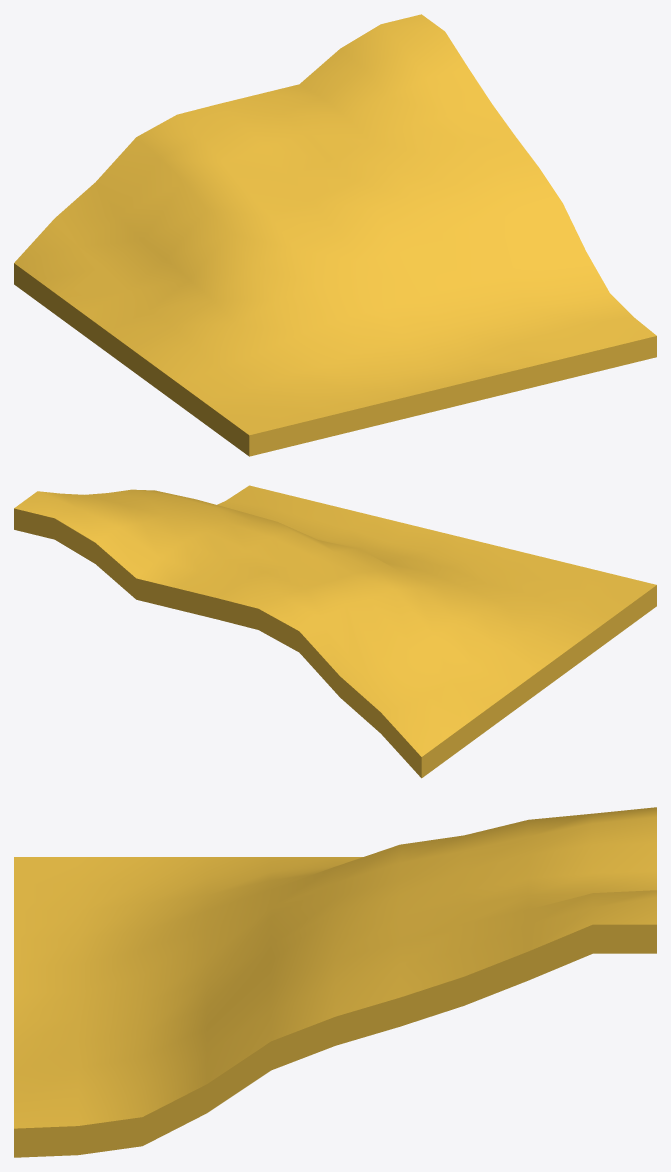
File: Flach - Mitte - Ecke b - a.fbx
3 views of the same model, one above another, from view 1: azimuth 30°, elevation 25°; view 2: azimuth 150°, elevation 25°; view 3: azimuth 270°, elevation 25° (orthographic). The views are drawn at different scales.
Parts seen in each view (by area): view 1: Flach - Mitte - Ecke b - a; view 2: Flach - Mitte - Ecke b - a; view 3: Flach - Mitte - Ecke b - a.
Part boxes in pixels (bbox=[...]): Flach - Mitte - Ecke b - a: bbox=[14, 14, 656, 456]; Flach - Mitte - Ecke b - a: bbox=[14, 485, 656, 778]; Flach - Mitte - Ecke b - a: bbox=[14, 807, 656, 1157].
Size of the model in its own units: 394 by 157 by 394.
